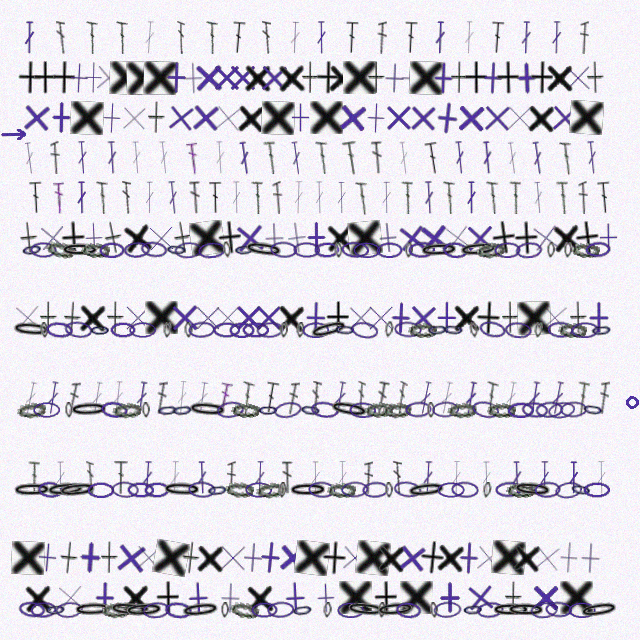chain: (308, 317, 350, 342), (328, 398, 370, 421), (578, 599, 620, 621), (243, 239, 284, 260), (57, 480, 98, 500), (406, 480, 447, 500), (180, 600, 221, 620), (458, 240, 499, 259), (11, 320, 52, 339), (187, 400, 228, 419), (45, 480, 86, 499), (512, 480, 553, 499), (108, 600, 149, 619), (345, 600, 386, 619), (375, 600, 416, 619), (419, 241, 459, 259), (124, 601, 164, 619), (69, 401, 109, 418), (162, 481, 202, 498), (73, 601, 113, 618), (45, 239, 76, 260), (60, 242, 100, 258), (12, 482, 52, 498), (288, 482, 328, 498), (491, 602, 531, 618), (506, 602, 546, 618), (475, 240, 506, 260), (16, 400, 47, 420), (255, 480, 286, 500), (229, 600, 260, 620), (478, 319, 507, 340), (471, 399, 500, 420), (273, 400, 303, 420), (350, 320, 379, 340), (547, 400, 576, 420), (554, 480, 583, 500), (364, 400, 394, 419), (64, 320, 93, 339), (216, 400, 245, 419), (310, 400, 339, 419), (393, 480, 422, 499), (112, 401, 142, 419), (382, 401, 412, 419), (447, 401, 477, 419), (101, 601, 131, 619), (140, 240, 168, 259), (100, 400, 128, 419), (18, 600, 46, 619), (174, 241, 203, 259), (197, 241, 226, 259), (515, 241, 543, 259), (45, 321, 73, 339), (256, 321, 284, 339), (504, 321, 532, 339), (521, 401, 549, 419), (55, 601, 83, 619), (142, 601, 170, 619), (164, 601, 192, 619), (476, 601, 504, 619), (530, 601, 558, 619), (535, 401, 564, 418), (225, 481, 254, 498), (433, 601, 462, 618), (442, 241, 469, 259), (395, 601, 422, 619), (123, 241, 151, 258), (341, 241, 369, 258), (394, 321, 422, 338), (111, 481, 139, 498), (188, 481, 216, 498), (451, 481, 479, 498), (81, 242, 110, 258), (571, 242, 600, 258), (408, 322, 437, 338), (558, 322, 587, 338), (231, 402, 260, 418), (487, 402, 516, 418), (327, 482, 356, 498), (506, 482, 535, 498), (270, 241, 297, 258), (408, 241, 435, 258), (188, 321, 215, 338), (547, 321, 574, 338), (405, 401, 432, 418), (432, 401, 459, 418), (560, 401, 587, 418), (37, 481, 64, 498), (308, 481, 335, 498), (341, 481, 368, 498), (362, 481, 389, 498), (495, 481, 522, 498), (534, 481, 561, 498), (30, 601, 57, 618), (267, 601, 294, 618), (545, 601, 572, 618), (20, 240, 44, 259), (581, 400, 605, 419), (569, 480, 593, 499), (353, 242, 381, 258), (571, 322, 599, 338), (437, 482, 465, 498), (568, 602, 596, 618), (585, 241, 611, 258), (30, 242, 57, 258), (293, 242, 320, 258), (376, 242, 403, 258), (494, 242, 521, 258), (129, 322, 156, 338), (213, 322, 240, 338), (242, 322, 269, 338), (302, 322, 329, 338), (33, 402, 60, 418), (349, 402, 376, 418), (507, 402, 534, 418), (87, 482, 114, 498), (127, 482, 154, 498), (245, 482, 272, 498), (583, 482, 610, 498), (251, 602, 278, 618), (337, 602, 364, 618), (99, 242, 125, 258), (314, 242, 340, 258), (110, 322, 136, 338), (229, 322, 255, 338), (144, 482, 170, 498), (590, 321, 613, 339), (156, 401, 179, 419), (171, 401, 194, 419), (299, 401, 322, 419), (206, 481, 229, 499), (291, 601, 314, 619), (165, 241, 188, 258), (233, 241, 256, 258), (426, 321, 449, 338), (442, 321, 465, 338), (44, 601, 67, 618), (334, 321, 356, 338), (462, 601, 484, 618), (89, 322, 111, 338), (257, 402, 279, 418), (222, 241, 232, 258), (384, 321, 394, 338), (469, 321, 479, 338), (482, 482, 492, 498), (429, 602, 439, 618), (334, 242, 343, 258), (40, 322, 49, 338), (163, 322, 172, 338), (184, 322, 193, 338), (296, 322, 305, 338), (534, 322, 543, 338), (278, 482, 287, 498), (323, 602, 332, 618), (405, 242, 413, 258), (547, 242, 555, 258), (564, 242, 572, 258), (280, 322, 288, 338), (65, 402, 73, 418), (142, 402, 150, 418), (427, 402, 435, 418), (385, 482, 393, 498), (221, 602, 229, 618), (378, 602, 386, 618)
double: (342, 141, 361, 175), (424, 141, 442, 175), (262, 381, 280, 415), (22, 381, 39, 415), (216, 381, 233, 415), (417, 381, 434, 415), (438, 381, 455, 415), (549, 381, 566, 415), (45, 381, 61, 415), (89, 381, 105, 415), (239, 381, 255, 415), (332, 381, 348, 415), (374, 381, 390, 415), (463, 381, 479, 415), (483, 381, 499, 415), (503, 381, 519, 415), (574, 381, 590, 415), (22, 141, 37, 175), (237, 141, 252, 175), (289, 141, 304, 175), (505, 141, 520, 175), (530, 141, 545, 175), (559, 141, 574, 175), (355, 181, 370, 215), (66, 381, 81, 415), (134, 381, 149, 415), (195, 381, 210, 415), (527, 381, 542, 415), (231, 21, 246, 54), (490, 21, 505, 54), (263, 141, 278, 174), (315, 141, 330, 174), (597, 181, 612, 214), (186, 141, 200, 175), (397, 141, 411, 175), (286, 381, 300, 415), (345, 21, 359, 54), (404, 21, 418, 54), (157, 141, 171, 174), (453, 141, 467, 174), (585, 141, 599, 174), (29, 181, 43, 214), (166, 181, 180, 214), (486, 181, 500, 214), (111, 381, 125, 414), (175, 381, 189, 414), (114, 461, 128, 494), (143, 21, 156, 54), (76, 141, 89, 174), (130, 141, 143, 174), (371, 141, 384, 174), (481, 141, 494, 174), (96, 181, 109, 214), (189, 181, 202, 214), (209, 181, 222, 214), (443, 181, 456, 214), (532, 181, 545, 214), (556, 181, 569, 214), (155, 381, 168, 414), (309, 381, 322, 414), (395, 381, 408, 414), (27, 461, 40, 494), (141, 461, 154, 494), (86, 21, 98, 54), (116, 21, 128, 54), (206, 21, 218, 54), (289, 21, 301, 54), (434, 21, 446, 54), (463, 21, 475, 54), (520, 21, 532, 54), (106, 141, 118, 174), (214, 141, 226, 174), (53, 181, 65, 214), (251, 181, 263, 214), (272, 181, 284, 214), (401, 181, 413, 214), (423, 181, 435, 214), (509, 181, 521, 214), (598, 381, 610, 414), (169, 461, 181, 494), (196, 461, 208, 494), (254, 461, 266, 494), (422, 461, 434, 494), (511, 461, 523, 494), (24, 21, 35, 54), (316, 21, 327, 54), (551, 21, 562, 54), (50, 141, 61, 174), (76, 181, 87, 214), (144, 181, 155, 214), (231, 181, 242, 214), (293, 181, 304, 214), (314, 181, 325, 214), (336, 181, 347, 214), (381, 181, 392, 214), (466, 181, 477, 214), (578, 181, 589, 214), (55, 461, 66, 494), (282, 461, 293, 494), (310, 461, 321, 494), (337, 461, 348, 494), (451, 461, 462, 494), (481, 461, 492, 494), (539, 461, 550, 494), (568, 461, 579, 494), (596, 461, 607, 494), (56, 21, 66, 54), (377, 21, 387, 54), (356, 381, 366, 414), (262, 21, 271, 54), (580, 21, 589, 54), (122, 181, 131, 214), (86, 461, 95, 494), (227, 461, 236, 494), (364, 461, 373, 494), (393, 461, 402, 494), (177, 21, 185, 54)
noise: (0, 129, 28, 140), (624, 394, 640, 410)
single: (152, 539, 190, 577), (278, 219, 315, 256), (439, 219, 476, 256), (527, 219, 564, 256), (163, 100, 199, 136), (210, 100, 246, 136), (429, 100, 465, 136), (189, 220, 225, 256), (232, 220, 268, 256), (347, 220, 383, 256), (394, 220, 430, 256), (416, 220, 452, 256), (113, 540, 149, 576), (294, 540, 330, 576), (355, 540, 391, 576), (394, 540, 430, 576), (471, 540, 507, 576), (529, 540, 565, 576), (121, 219, 155, 256), (91, 60, 126, 95), (19, 100, 54, 135), (188, 100, 223, 135), (335, 100, 370, 135), (569, 100, 604, 135), (35, 220, 70, 255), (370, 220, 405, 255), (10, 300, 45, 335), (537, 300, 572, 335), (30, 540, 65, 575), (73, 540, 108, 575), (131, 540, 166, 575), (235, 540, 270, 575), (253, 540, 288, 575), (275, 540, 310, 575), (337, 540, 372, 575), (491, 540, 526, 575), (551, 540, 586, 575), (53, 580, 88, 615), (463, 580, 498, 615), (62, 61, 96, 95), (109, 61, 143, 95), (126, 61, 160, 95), (143, 61, 177, 95), (176, 61, 210, 95), (257, 61, 291, 95), (377, 61, 411, 95), (393, 61, 427, 95), (409, 61, 443, 95), (426, 61, 460, 95), (476, 61, 510, 95), (510, 61, 544, 95), (70, 101, 104, 135), (95, 101, 129, 135), (117, 101, 151, 135), (261, 101, 295, 135), (359, 101, 393, 135), (406, 101, 440, 135), (454, 101, 488, 135), (480, 101, 514, 135), (548, 101, 582, 135), (77, 221, 111, 255), (144, 221, 178, 255), (257, 221, 291, 255), (463, 221, 497, 255), (384, 301, 418, 335), (406, 301, 440, 335), (517, 301, 551, 335), (11, 541, 45, 575), (452, 541, 486, 575), (573, 541, 607, 575), (181, 581, 215, 615), (213, 581, 247, 615), (278, 581, 312, 615), (309, 581, 343, 615), (551, 220, 583, 255), (435, 540, 467, 575), (511, 540, 543, 575), (77, 61, 110, 94), (160, 61, 193, 94), (192, 61, 225, 94), (210, 61, 243, 94), (226, 61, 259, 94), (343, 61, 376, 94), (561, 61, 594, 94), (45, 101, 78, 134), (284, 101, 317, 134), (310, 101, 343, 134), (382, 101, 415, 134), (503, 101, 536, 134), (300, 221, 333, 254), (592, 221, 625, 254), (121, 301, 154, 334), (145, 301, 178, 334), (168, 301, 201, 334), (191, 301, 224, 334), (211, 301, 244, 334), (232, 301, 265, 334), (252, 301, 285, 334), (299, 301, 332, 334), (344, 301, 377, 334), (364, 301, 397, 334), (430, 301, 463, 334), (582, 301, 615, 334), (216, 541, 249, 574), (88, 581, 121, 614), (339, 581, 372, 614), (400, 581, 433, 614), (433, 581, 466, 614), (529, 581, 562, 614), (560, 581, 593, 614), (327, 61, 358, 95), (236, 101, 267, 135), (526, 101, 557, 135), (276, 301, 307, 335), (195, 541, 226, 575), (376, 541, 407, 575), (23, 581, 54, 615), (245, 581, 276, 615), (325, 221, 356, 254), (489, 220, 518, 255), (243, 61, 273, 94), (277, 61, 307, 94), (545, 61, 575, 94), (78, 301, 108, 334), (452, 301, 482, 334), (121, 581, 151, 614), (573, 220, 601, 255), (418, 540, 446, 575), (216, 220, 243, 255), (60, 221, 86, 255), (513, 221, 539, 255), (475, 301, 501, 335), (321, 541, 347, 575), (17, 61, 42, 94), (32, 61, 57, 94), (51, 61, 76, 94), (315, 61, 340, 94), (463, 61, 488, 94), (495, 61, 520, 94), (529, 61, 554, 94), (325, 301, 350, 334), (155, 581, 180, 614), (373, 581, 398, 614), (102, 220, 125, 255), (172, 220, 194, 255), (19, 221, 39, 255), (59, 541, 79, 575), (181, 541, 201, 575), (63, 301, 82, 335), (302, 61, 319, 94), (368, 61, 385, 94), (451, 61, 468, 94), (587, 61, 604, 94), (148, 101, 165, 134), (40, 301, 57, 334), (107, 301, 124, 334), (502, 301, 519, 334), (570, 301, 587, 334), (101, 541, 118, 574), (505, 581, 522, 614)
